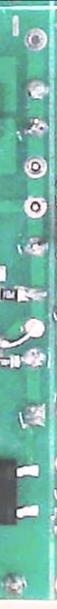chip-resistor: (0, 284, 31, 303), (0, 353, 21, 369)
